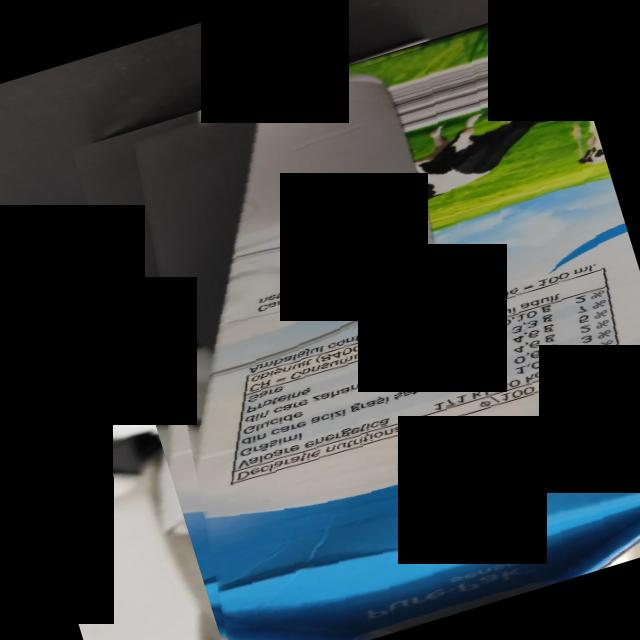milk: (71, 1, 640, 640)
